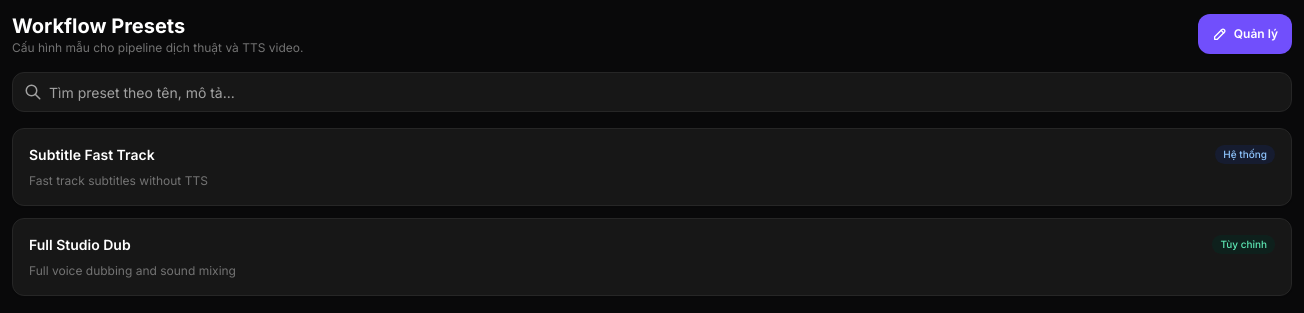
MobilePresetSettingsPage › filters presets by search query
expect the text "Subtitle Fast Track" is shown: met, box [29,146,155,163]
expect the text "Full Studio Dub" is shown: met, box [29,236,131,253]
Step 1. Type "Fast Track" into the field with placeholder "Tìm preset theo tên, mô tả..." → (652, 92), box [12,72,1292,112]
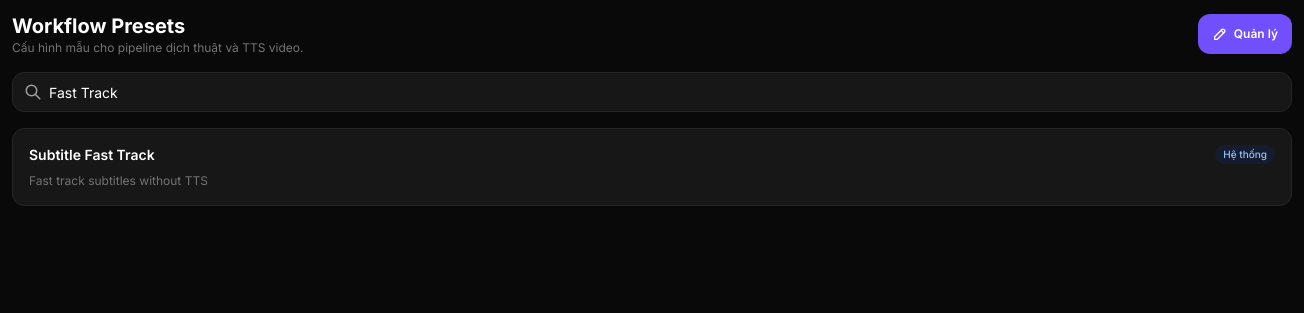
expect the text "Subtitle Fast Track" is shown: met, box [29,146,155,163]
expect the text "Full Studio Dub" is gone: met
